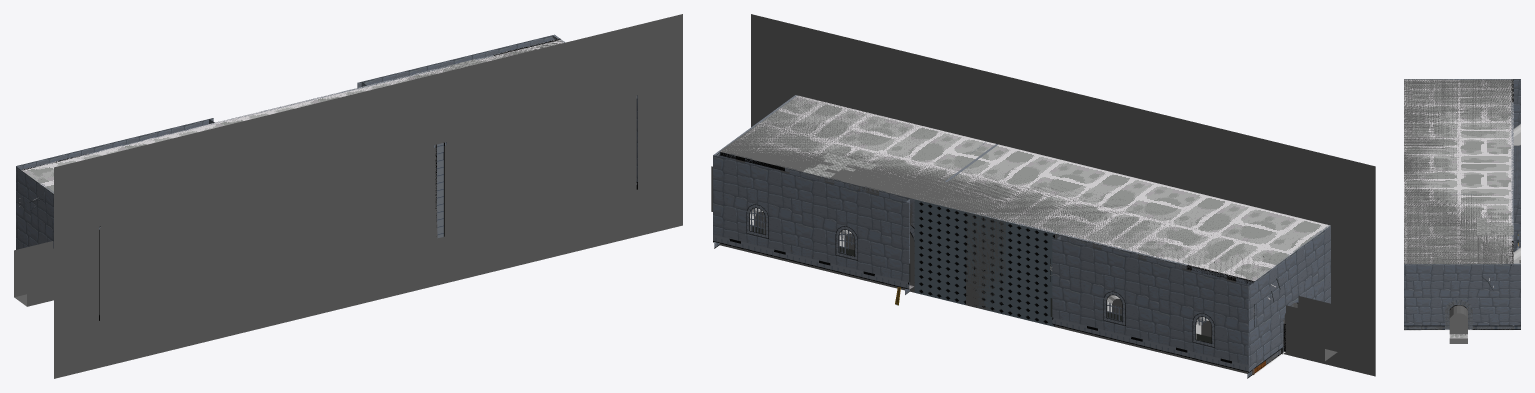
File: gon_06_bake.dae
The picture shows the model from 3 angles, left to right: view 1: azimuth 30°, elevation 25°; view 2: azimuth 150°, elevation 25°; view 3: azimuth 270°, elevation 25°; orthographic projection. The views are drawn at different scales.
Parts seen in each view (by area): view 1: kuro6, a_kabemae, polySurface553_q00021, polySurface473_q00079_part0, polySurface917_q00062_part0, polySurface409_q00009, polySurface461_q00072_part1, pCube151_q00074, a_ten; view 2: kuro6, polySurface553_q00021, polySurface917_q00062_part0, a_ten, polySurface79_q00088, polySurface473_q00079_part0, a_kabeushi, polySurface917_q00062_part3, polySurface409_q00009, polySurface917_q00062_part1, polySurface840_q00060_part0, pCube151_q00074 (+3 smaller); view 3: polySurface553_q00021, a_ten, polySurface474_q00080_part0, polySurface474_q00080_part1, pCube151_q00074, a_kabeyoko, polySurface485_q00078_part0, polySurface906, polySurface461_q00073, polySurface787_q00022, polySurface473_q00079_part0, polySurface408_q00081_part0 (+3 smaller).
Part boxes in pixels (x1,y1,x2,y2): kuro6: (54, 14, 682, 378); a_kabemae: (100, 96, 636, 320); polySurface553_q00021: (21, 39, 563, 193); polySurface473_q00079_part0: (16, 166, 53, 249); polySurface917_q00062_part0: (16, 35, 554, 169); polySurface409_q00009: (14, 241, 53, 306); polySurface461_q00072_part1: (435, 142, 444, 238); pCube151_q00074: (21, 38, 560, 171); a_ten: (41, 39, 562, 184); kuro6: (751, 14, 1375, 376); polySurface553_q00021: (721, 96, 1329, 281); polySurface917_q00062_part0: (713, 155, 1248, 365); a_ten: (720, 95, 1281, 280); polySurface79_q00088: (914, 199, 1054, 326); polySurface473_q00079_part0: (1248, 226, 1330, 371); a_kabeushi: (719, 159, 1252, 374); polySurface917_q00062_part3: (740, 204, 1221, 365); polySurface409_q00009: (1284, 296, 1337, 361); polySurface917_q00062_part1: (713, 234, 1248, 372); polySurface840_q00060_part0: (718, 152, 1252, 285); pCube151_q00074: (719, 152, 1254, 284); polySurface553_q00021: (1404, 79, 1513, 264); a_ten: (1404, 79, 1513, 263); polySurface474_q00080_part0: (1404, 264, 1520, 325); polySurface474_q00080_part1: (1404, 300, 1520, 329); pCube151_q00074: (1511, 79, 1513, 266); a_kabeyoko: (1404, 300, 1513, 329); polySurface485_q00078_part0: (1513, 145, 1520, 197); polySurface906: (1477, 218, 1513, 234); polySurface461_q00073: (1513, 198, 1520, 251); polySurface787_q00022: (1449, 308, 1467, 334); polySurface473_q00079_part0: (1513, 79, 1520, 128); polySurface408_q00081_part0: (1449, 305, 1467, 317).
Size of the model in its own units: 140 by 45 by 32.
